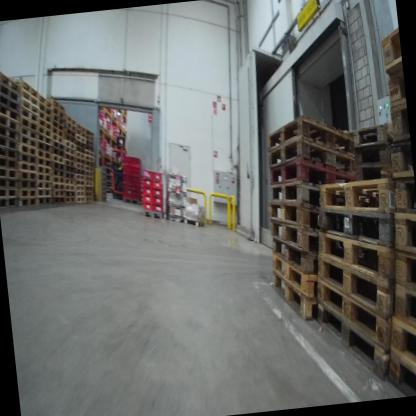forklift: (105, 130, 138, 204)
pallet: (312, 286, 395, 386), (316, 271, 393, 363), (315, 243, 394, 330), (260, 110, 356, 175), (316, 221, 396, 296), (301, 174, 395, 234), (265, 131, 356, 184), (264, 148, 353, 200), (316, 195, 393, 253), (270, 262, 321, 329), (267, 228, 319, 286), (327, 143, 397, 183), (270, 248, 322, 301), (264, 211, 322, 258), (384, 313, 416, 395), (326, 157, 396, 193), (268, 197, 321, 243), (324, 121, 393, 156), (383, 278, 416, 346), (265, 177, 323, 215), (387, 240, 416, 303), (383, 343, 416, 398), (385, 169, 416, 223), (388, 203, 416, 261), (379, 25, 402, 75), (389, 135, 412, 181), (381, 63, 405, 105), (387, 99, 408, 139), (0, 66, 21, 97), (18, 73, 38, 101), (0, 80, 20, 107), (0, 88, 20, 114), (0, 107, 21, 131), (18, 131, 40, 152), (179, 212, 206, 228), (0, 139, 19, 161), (21, 88, 40, 110), (140, 206, 164, 223), (36, 89, 53, 113), (20, 113, 40, 133), (20, 104, 40, 124), (0, 101, 18, 123), (20, 94, 39, 114), (0, 122, 18, 143), (0, 151, 18, 172), (0, 128, 17, 150), (0, 172, 18, 191), (0, 163, 20, 180), (0, 179, 17, 199), (16, 176, 39, 190), (18, 160, 39, 175), (18, 142, 39, 157), (17, 168, 37, 183), (35, 160, 51, 178), (37, 146, 52, 165), (0, 195, 20, 209), (19, 127, 39, 141), (35, 176, 52, 192), (18, 152, 37, 166), (15, 195, 37, 207), (37, 128, 52, 145), (38, 114, 52, 132), (34, 195, 52, 209), (33, 184, 52, 197), (53, 102, 66, 121), (16, 186, 36, 198), (38, 101, 52, 118), (37, 124, 51, 140), (35, 170, 51, 184), (51, 142, 65, 158), (53, 97, 67, 113), (38, 109, 52, 124), (122, 195, 140, 206), (50, 166, 65, 179), (50, 118, 63, 133), (35, 156, 51, 168), (51, 196, 67, 208), (49, 179, 65, 191), (37, 140, 51, 153), (51, 112, 65, 125), (65, 112, 77, 127), (51, 152, 65, 164), (63, 129, 75, 143), (63, 142, 75, 156), (61, 162, 75, 174), (64, 118, 75, 133), (51, 159, 64, 171), (75, 125, 85, 140), (62, 137, 74, 149), (74, 143, 86, 155), (52, 173, 65, 184), (52, 131, 63, 144), (63, 170, 74, 183), (75, 137, 86, 150), (65, 125, 75, 139), (50, 189, 66, 197), (65, 194, 77, 204), (75, 133, 85, 145), (52, 126, 63, 136), (64, 151, 75, 161), (51, 139, 63, 148), (76, 120, 85, 132), (75, 166, 85, 176), (74, 189, 85, 198), (75, 151, 86, 160), (74, 184, 86, 192), (75, 162, 87, 170), (65, 158, 75, 167), (76, 157, 85, 166), (74, 173, 84, 181), (75, 178, 85, 186), (63, 179, 74, 186), (64, 184, 75, 191), (75, 197, 86, 203), (65, 190, 75, 196)
